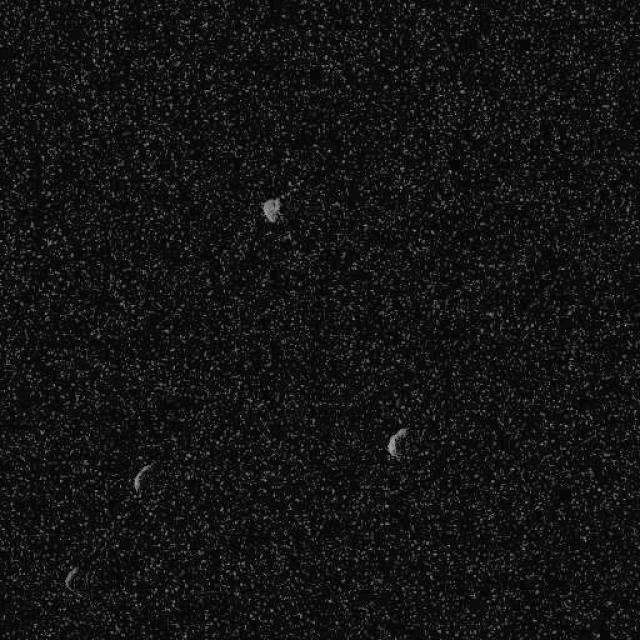D2: (385, 425, 410, 459), (62, 564, 86, 598), (131, 461, 154, 495), (258, 196, 282, 224)
